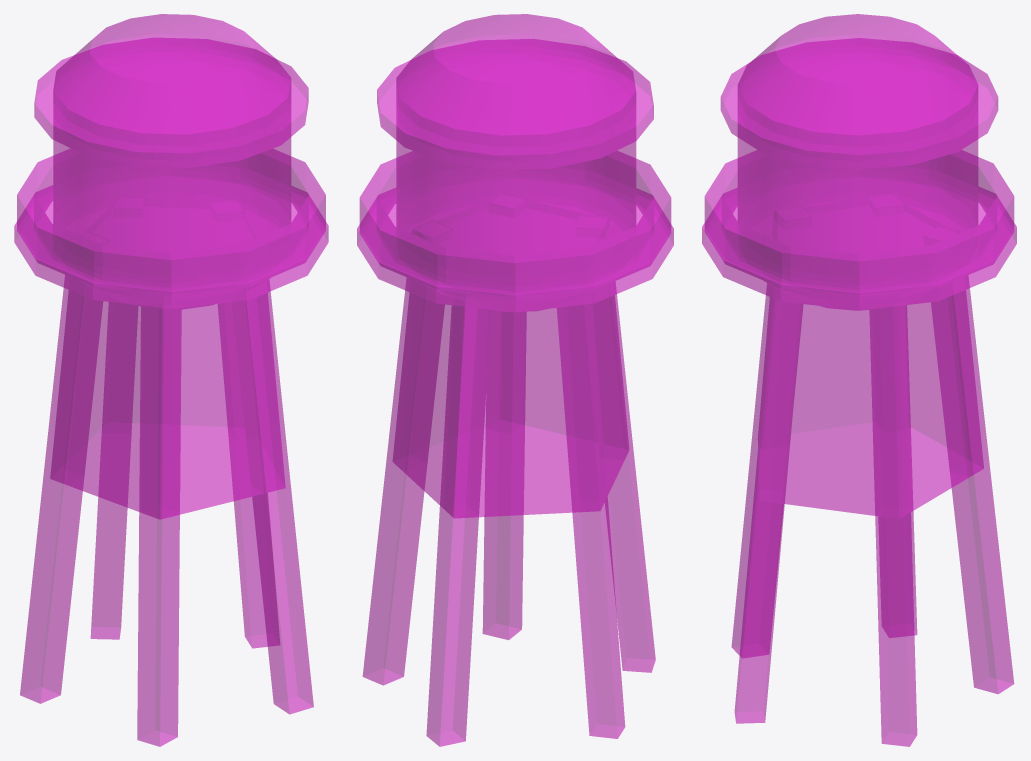
File: SM_Bld_Water_Tower_01_Collision.fbx
3 renders of one model, left to right at view 1: azimuth 30°, elevation 25°; view 2: azimuth 150°, elevation 25°; view 3: azimuth 270°, elevation 25°, orthographic.
Parts seen in each view (by area): view 1: SM_Bld_Water_Tower_01_Collision; view 2: SM_Bld_Water_Tower_01_Collision; view 3: SM_Bld_Water_Tower_01_Collision.
Boxes of the visible parts, bbox=[...] form: SM_Bld_Water_Tower_01_Collision: bbox=[14, 14, 328, 746]; SM_Bld_Water_Tower_01_Collision: bbox=[357, 14, 673, 746]; SM_Bld_Water_Tower_01_Collision: bbox=[702, 14, 1016, 746].
Bounding box in the file's own units: 1620 × 3727 × 1620.
